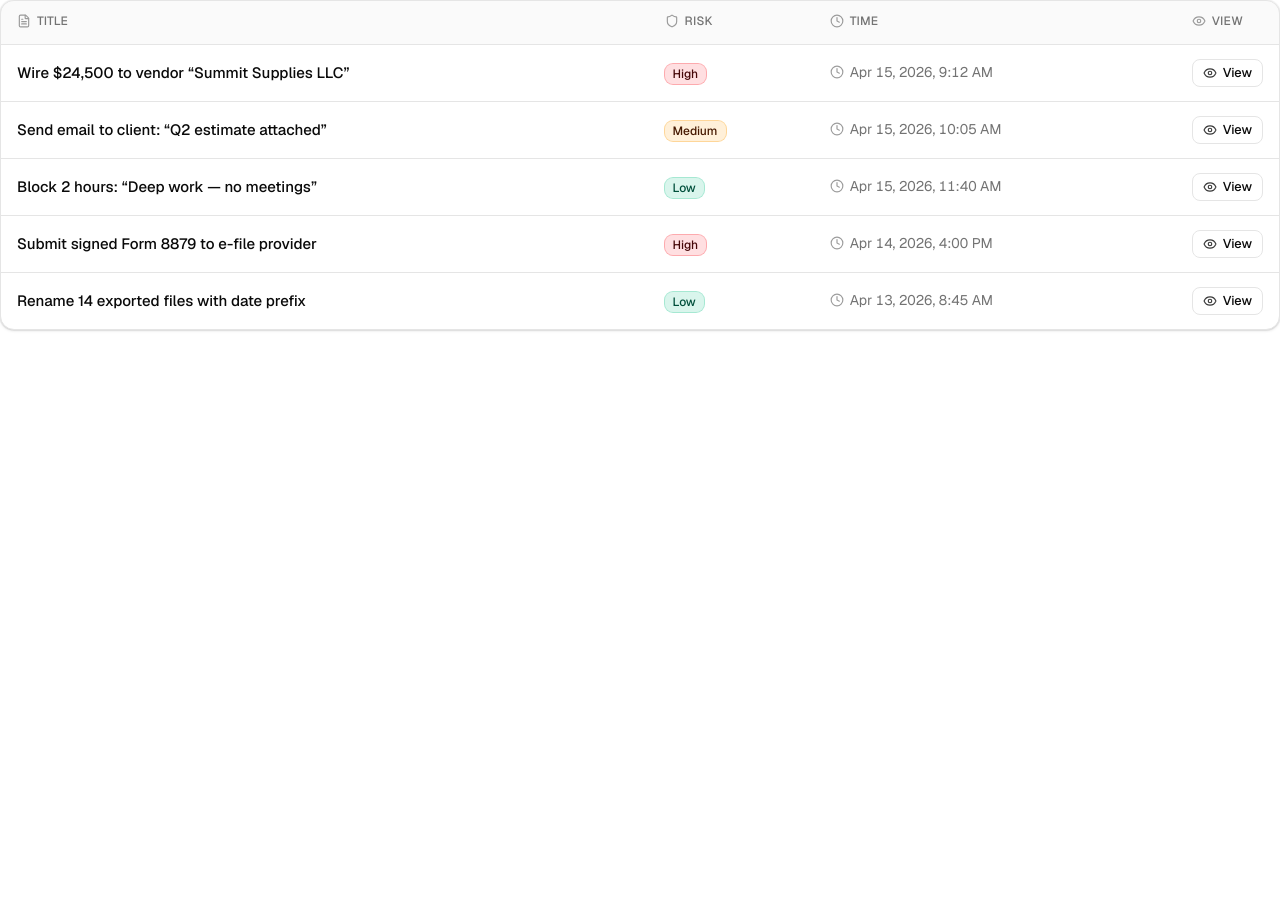
Test case: ApprovalInbox › removes an approval from the table after Approve
Expected: the text "Wire $24,500 to vendor “Summit Supplies LLC”" is shown, [17,63,349,82]
Click the 2nd row at [640, 73], box [1,44,1279,102]
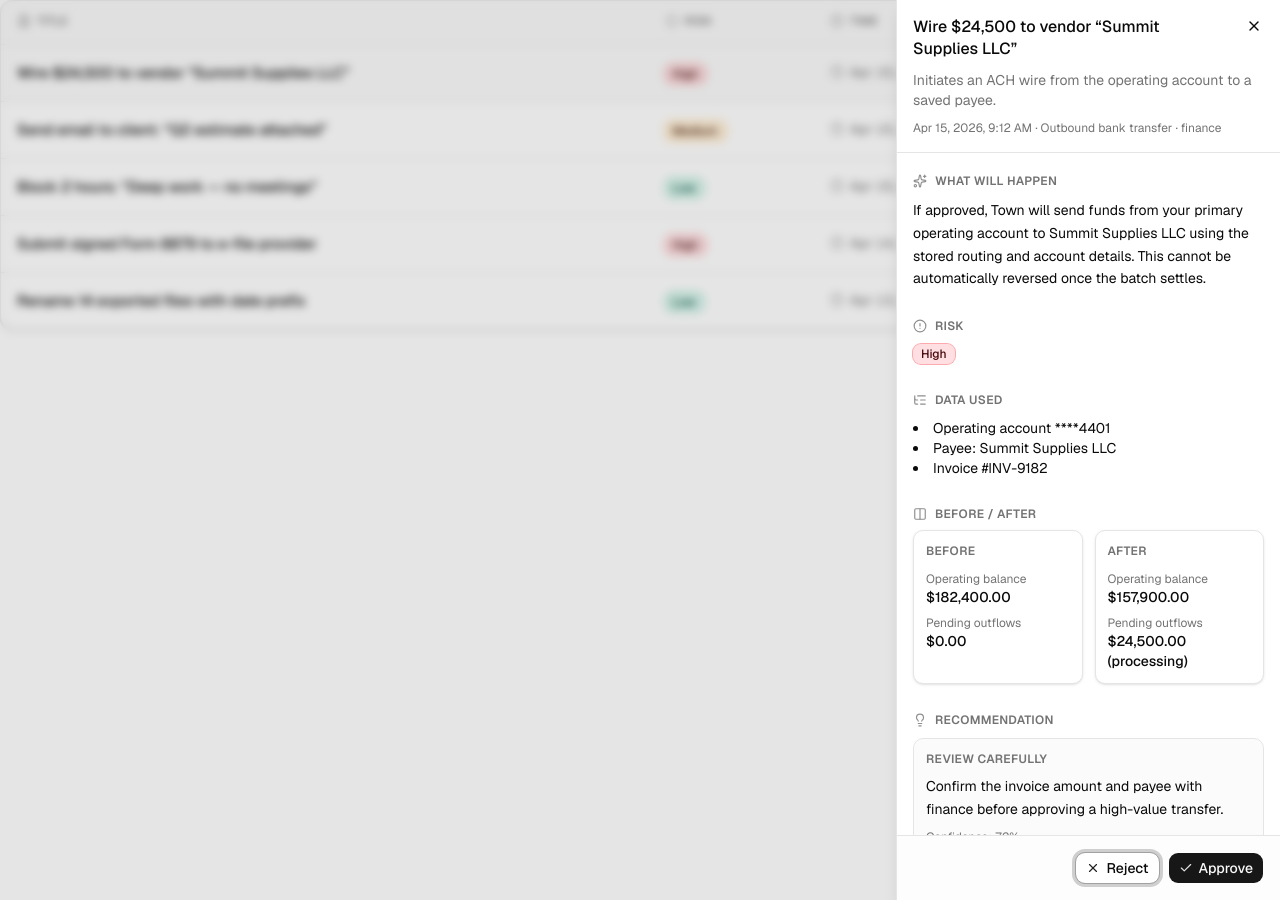
Click the button "Approve" at [1216, 868], box [1168,852,1264,884]
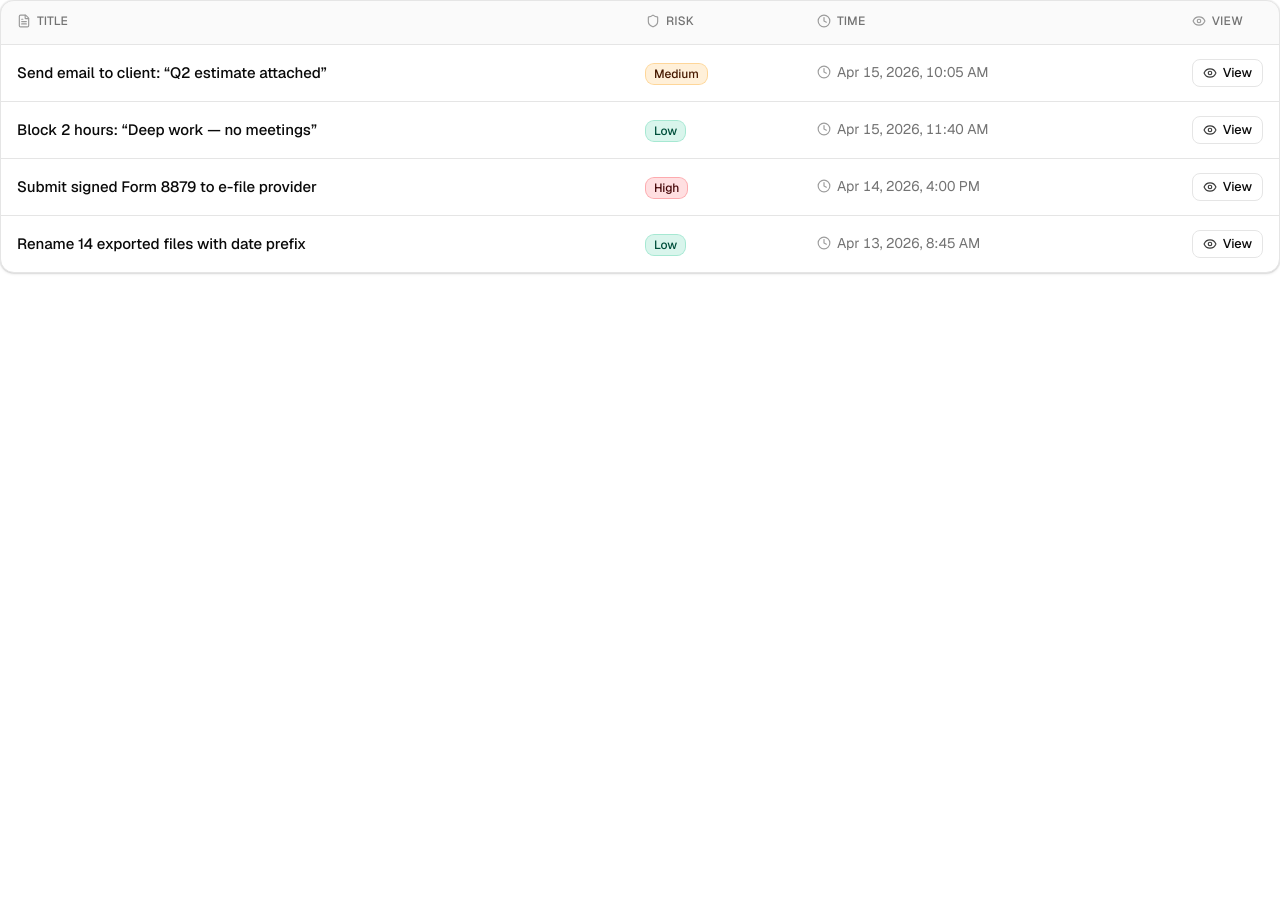
Now the text "Wire $24,500 to vendor “Summit Supplies LLC”" is gone
